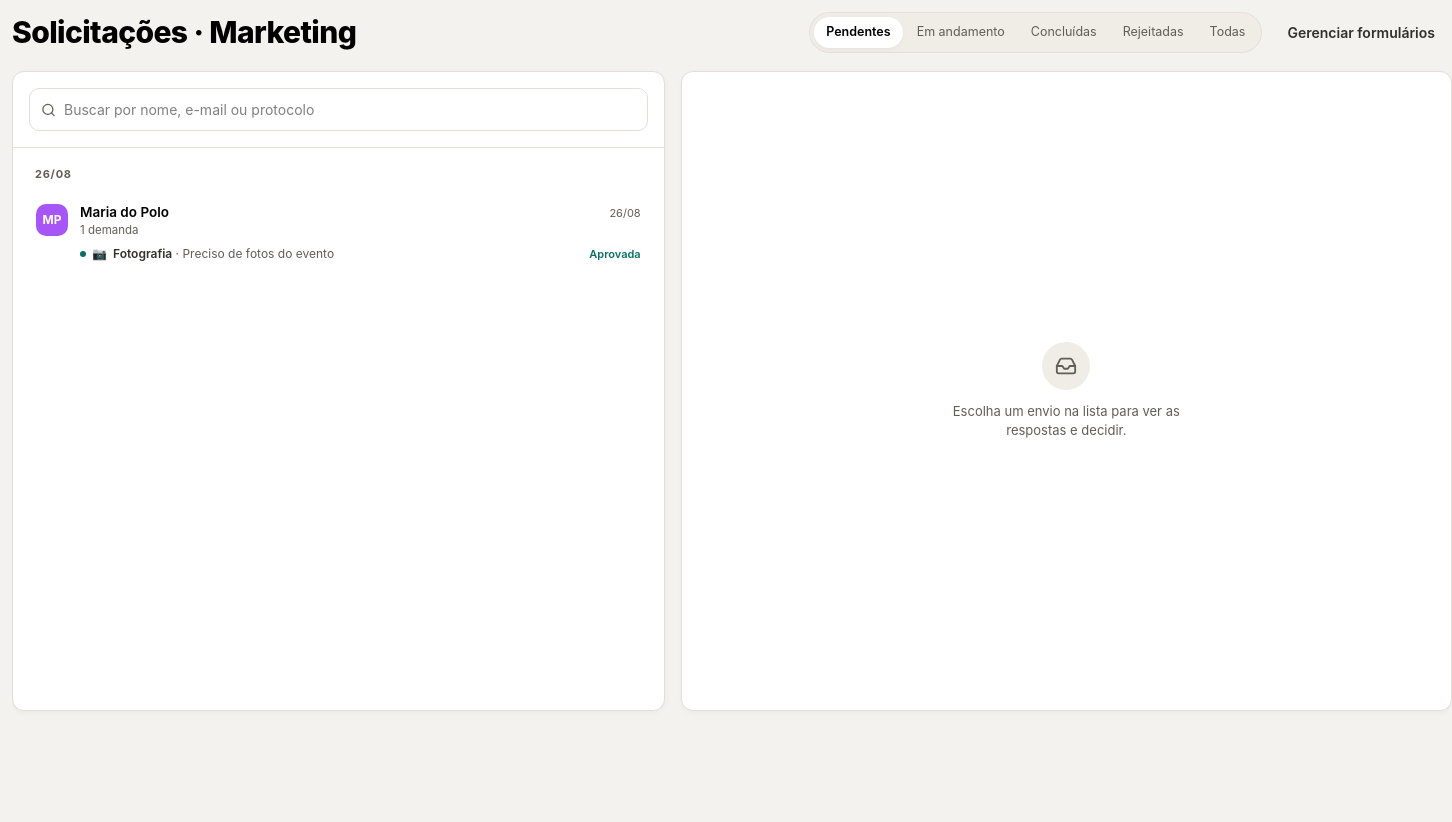
criar a tarefa a partir do pedido › ⚠️ marcação ANTIGA, só com `task_ref` de texto, continua aparecendo
Click the text "Maria do Polo" at x=124, y=212, box top-left (80, 204), bottom-right (169, 220)
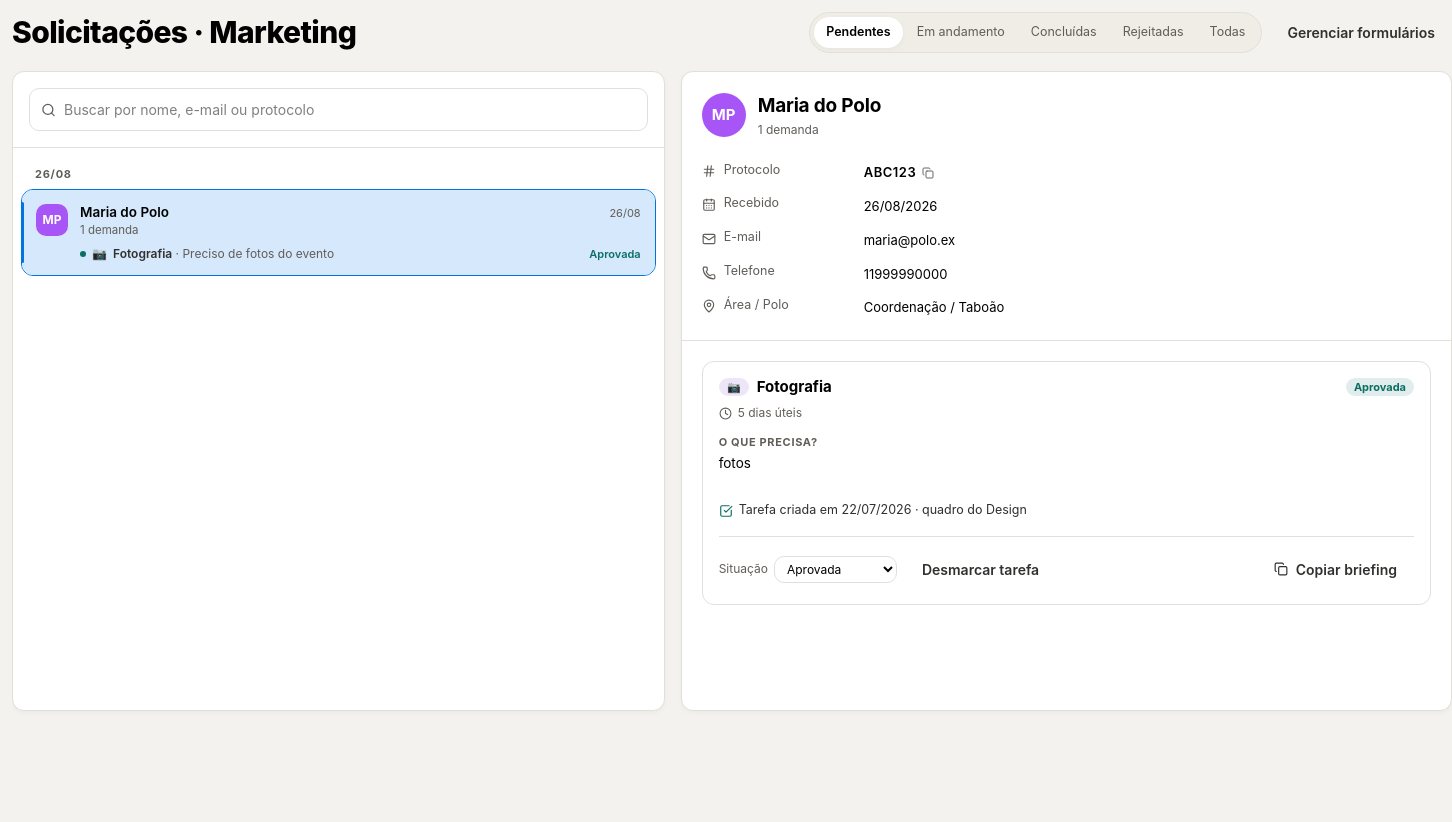
Now the text "Tarefa criada em 22/07/2026 · quadro do Design" is shown, box top-left (719, 502), bottom-right (1027, 518)
